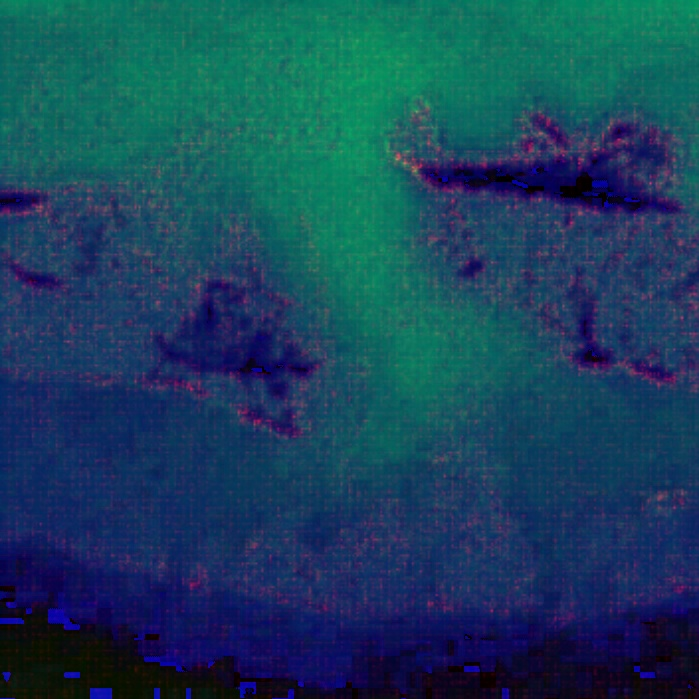rip_current: (203, 103, 487, 588)
